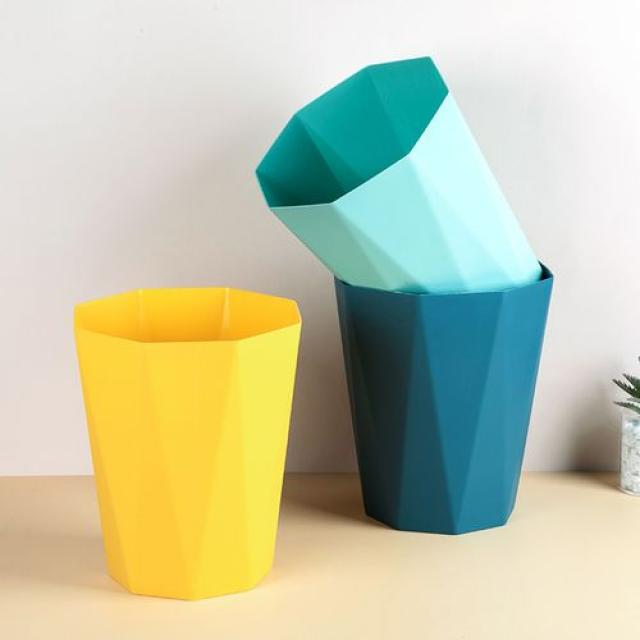dustbin: (71, 284, 308, 604), (249, 53, 542, 290), (327, 258, 557, 539)
